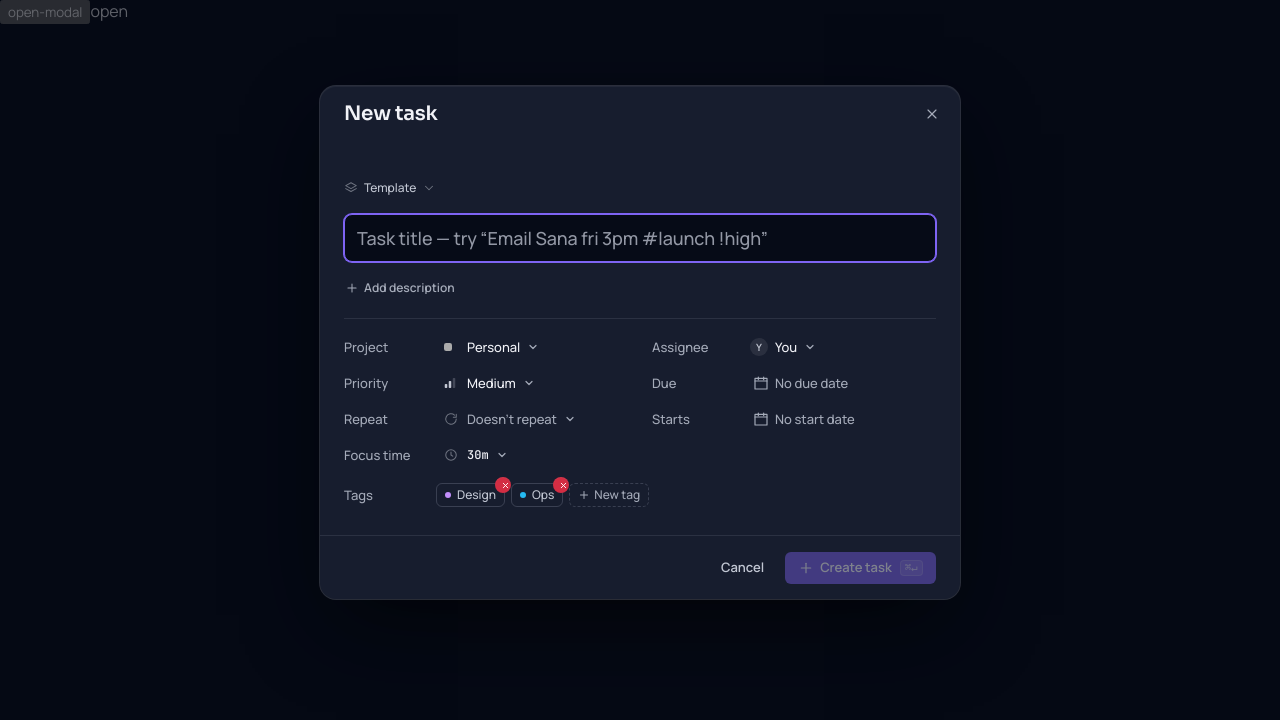
NewTaskModal › never overwrites a title the user already typed when a template is picked; Remove undoes the rest
Type "Login button broken" into the text box labelled "Task title" at (640, 238), box x1=357 y1=224 x2=923 y2=252
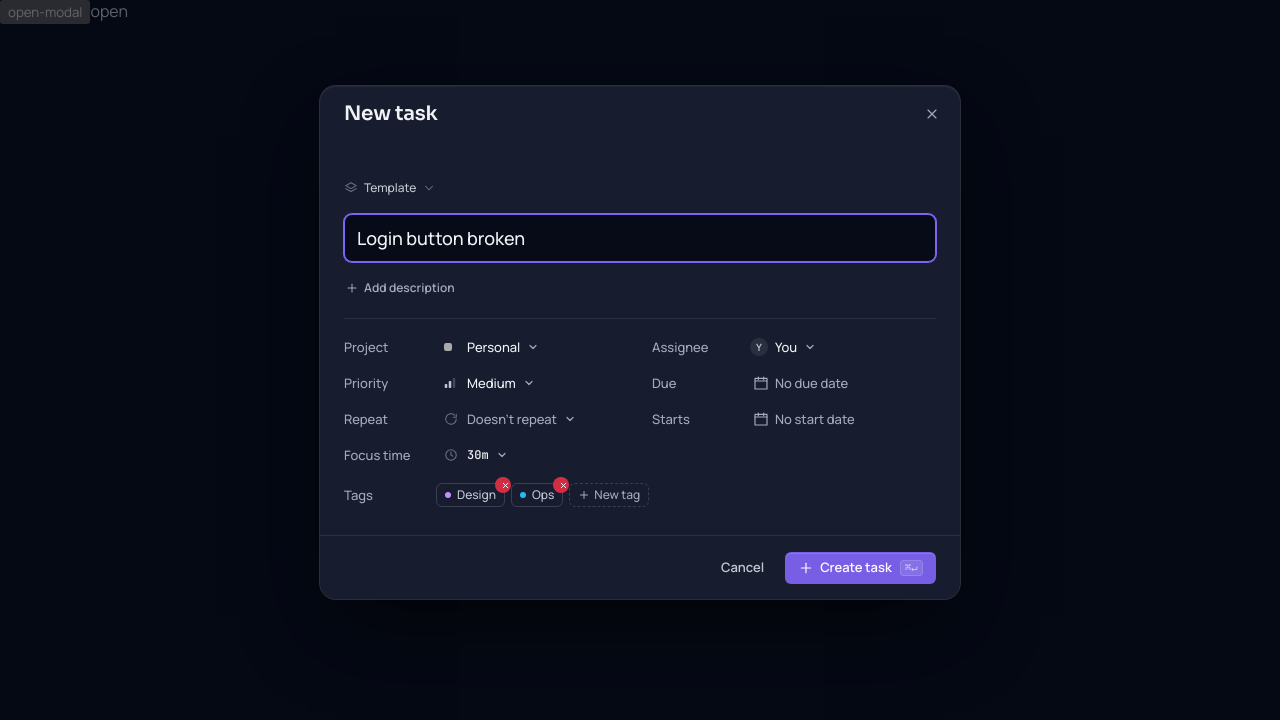
Click the button "Template" at (390, 188), box x1=336 y1=174 x2=444 y2=202
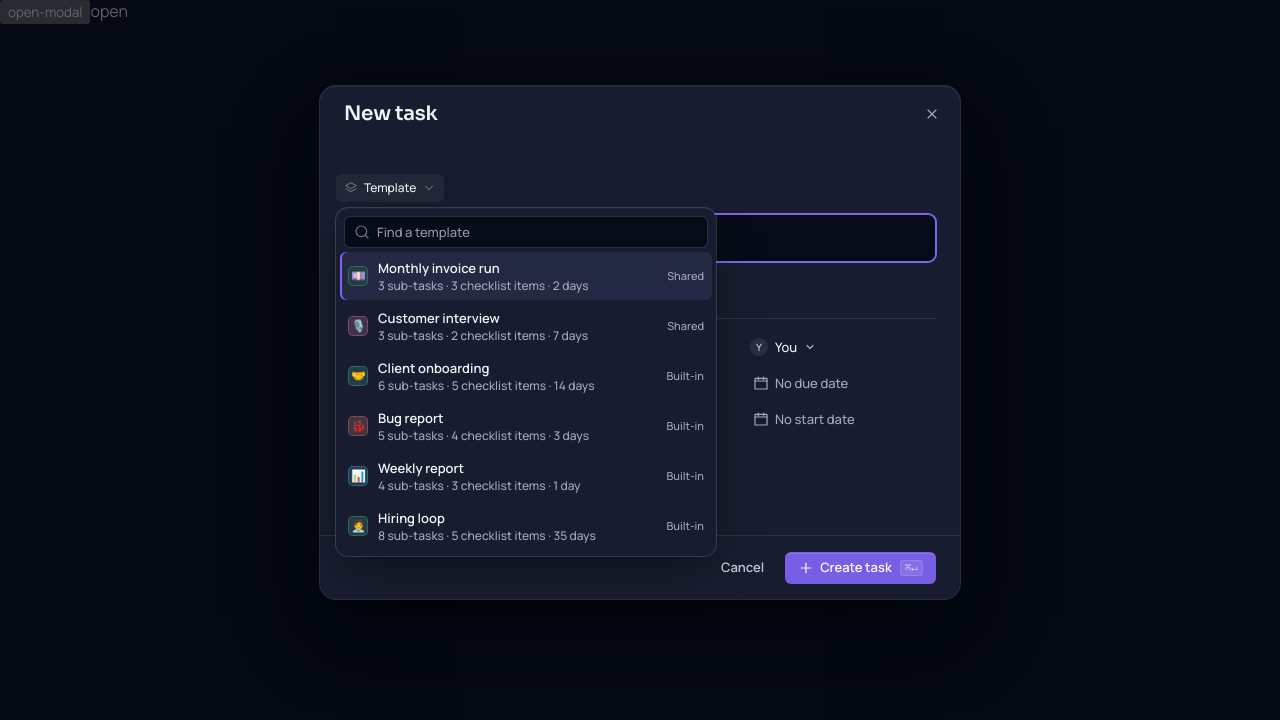
Click the option "Bug report" at (526, 426), box x1=340 y1=402 x2=712 y2=450
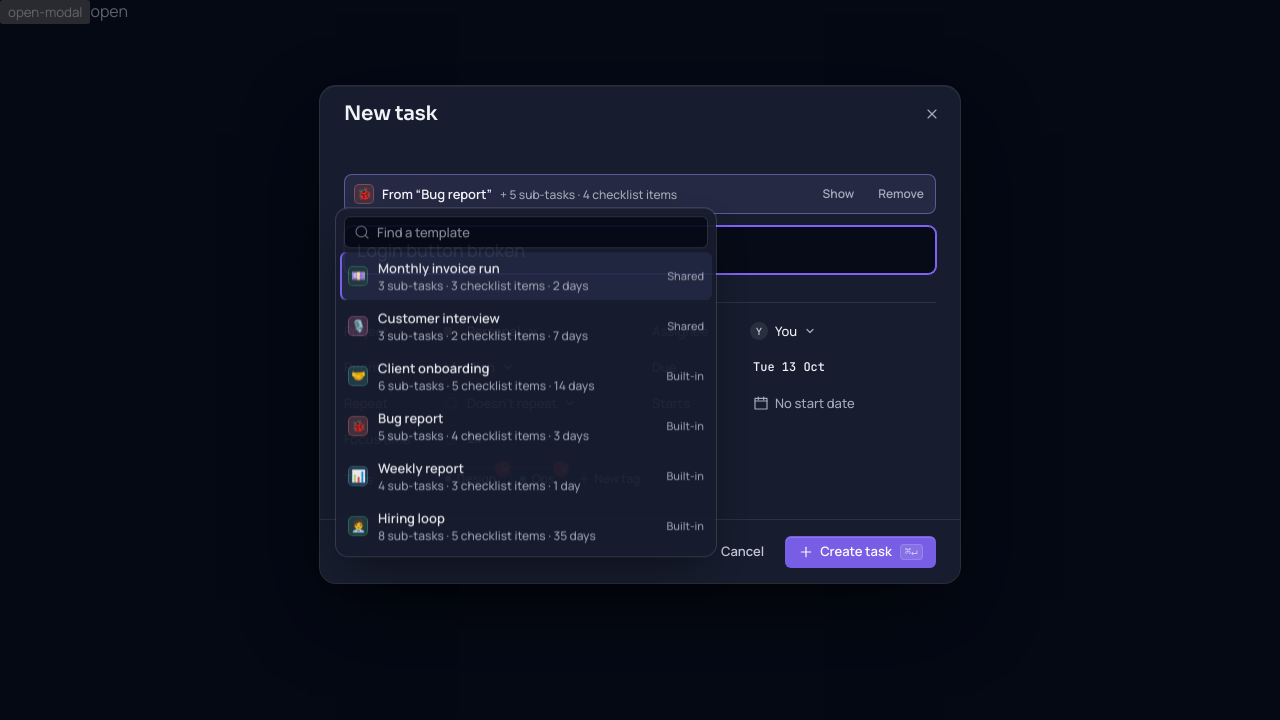
Result: the dropdown labelled "Priority" shows "High" at x1=436 y1=351 x2=524 y2=383
Click the button with aria-label "Remove template “Bug report”" at (901, 194), box x1=870 y1=180 x2=932 y2=208
Wait 400 ms
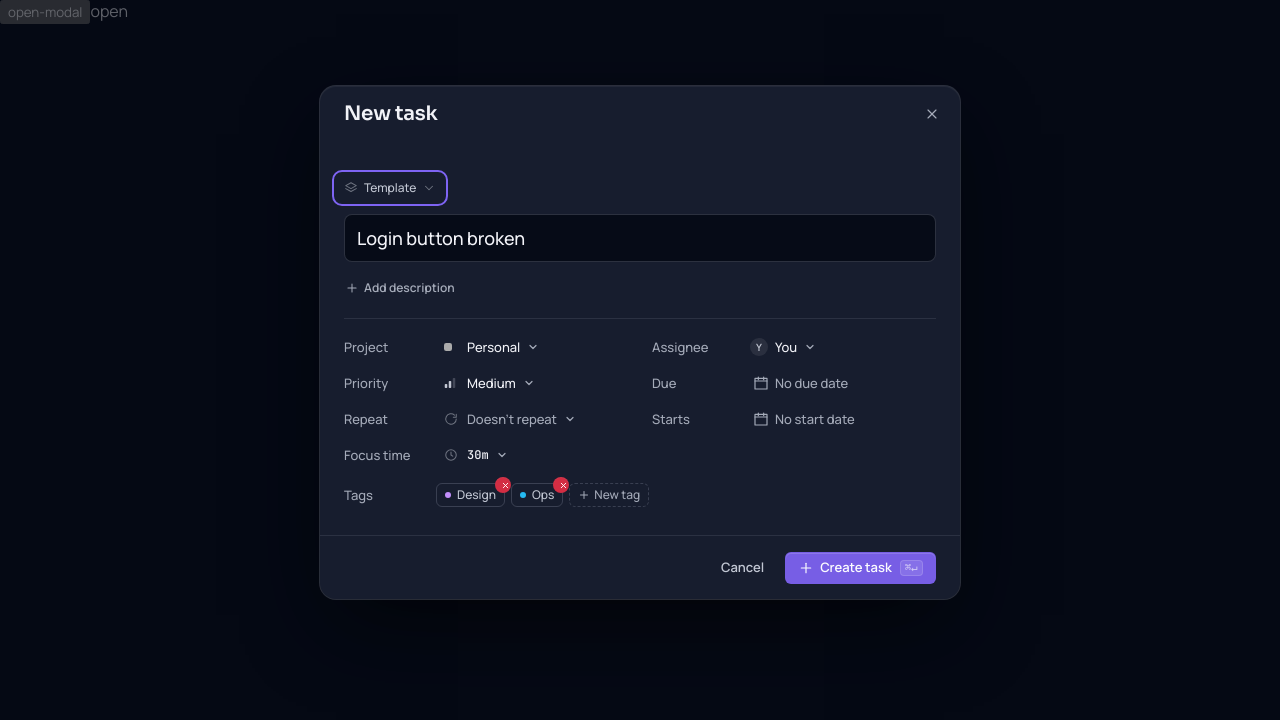
Result: the dropdown labelled "Priority" shows "Medium" at x1=436 y1=367 x2=545 y2=399
